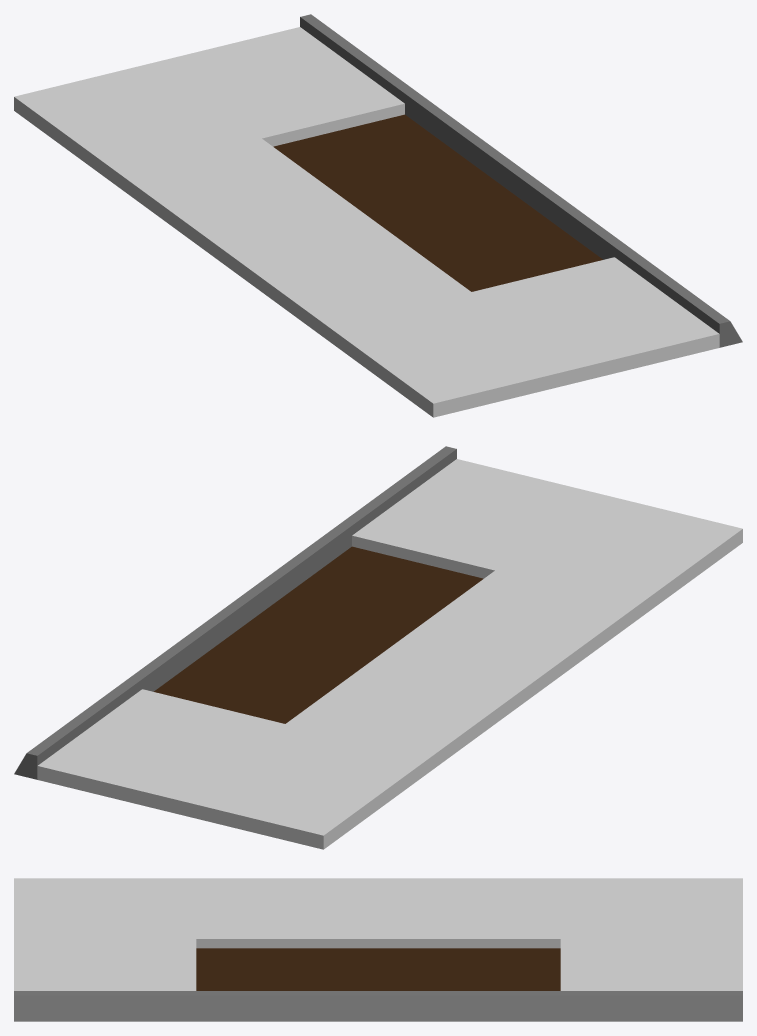
3 views of the same model, one above another, from view 1: azimuth 30°, elevation 25°; view 2: azimuth 150°, elevation 25°; view 3: azimuth 270°, elevation 25° (orthographic). The views are drawn at different scales.
Visible parts, largest first — view 1: Plane.001; view 2: Plane.001; view 3: Plane.001.
Boxes of the visible parts, box(x1,y1,x2,y2) form: Plane.001: box(14, 14, 742, 417); Plane.001: box(14, 446, 742, 849); Plane.001: box(14, 878, 742, 1021).
Bounding box in the file's own units: 4.16 × 0.3088 × 9.77.
1 material, 1 textured.
